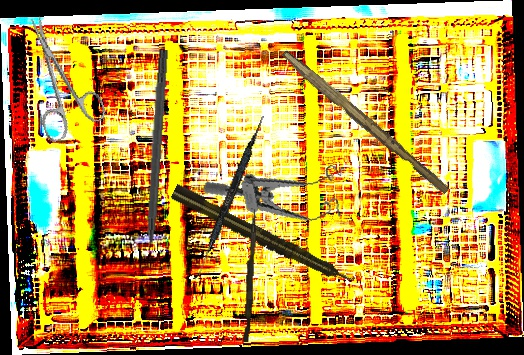Handpiece: (169, 182, 358, 291)
Hook Surgical: (140, 49, 170, 268)
Iris Scissors: (7, 6, 110, 144)
Pusher: (243, 208, 257, 343)
Scalpel Handle: (277, 49, 453, 196)
Spatula Surgical: (193, 113, 266, 283)
Speculum: (202, 152, 355, 244)
